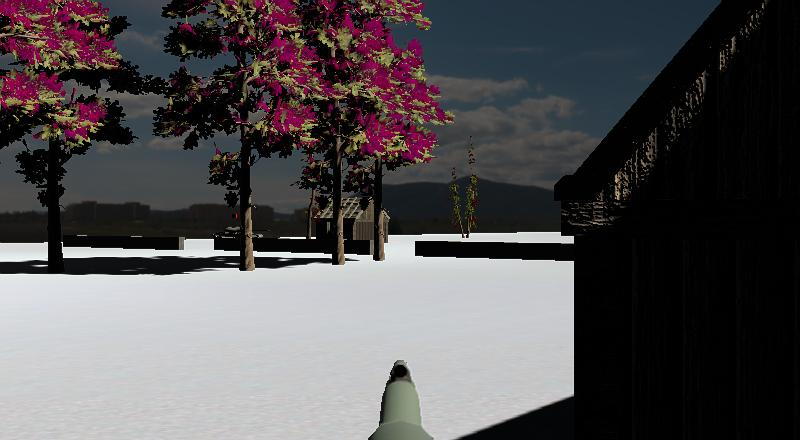House: (528, 0, 799, 440), (309, 191, 398, 264)
